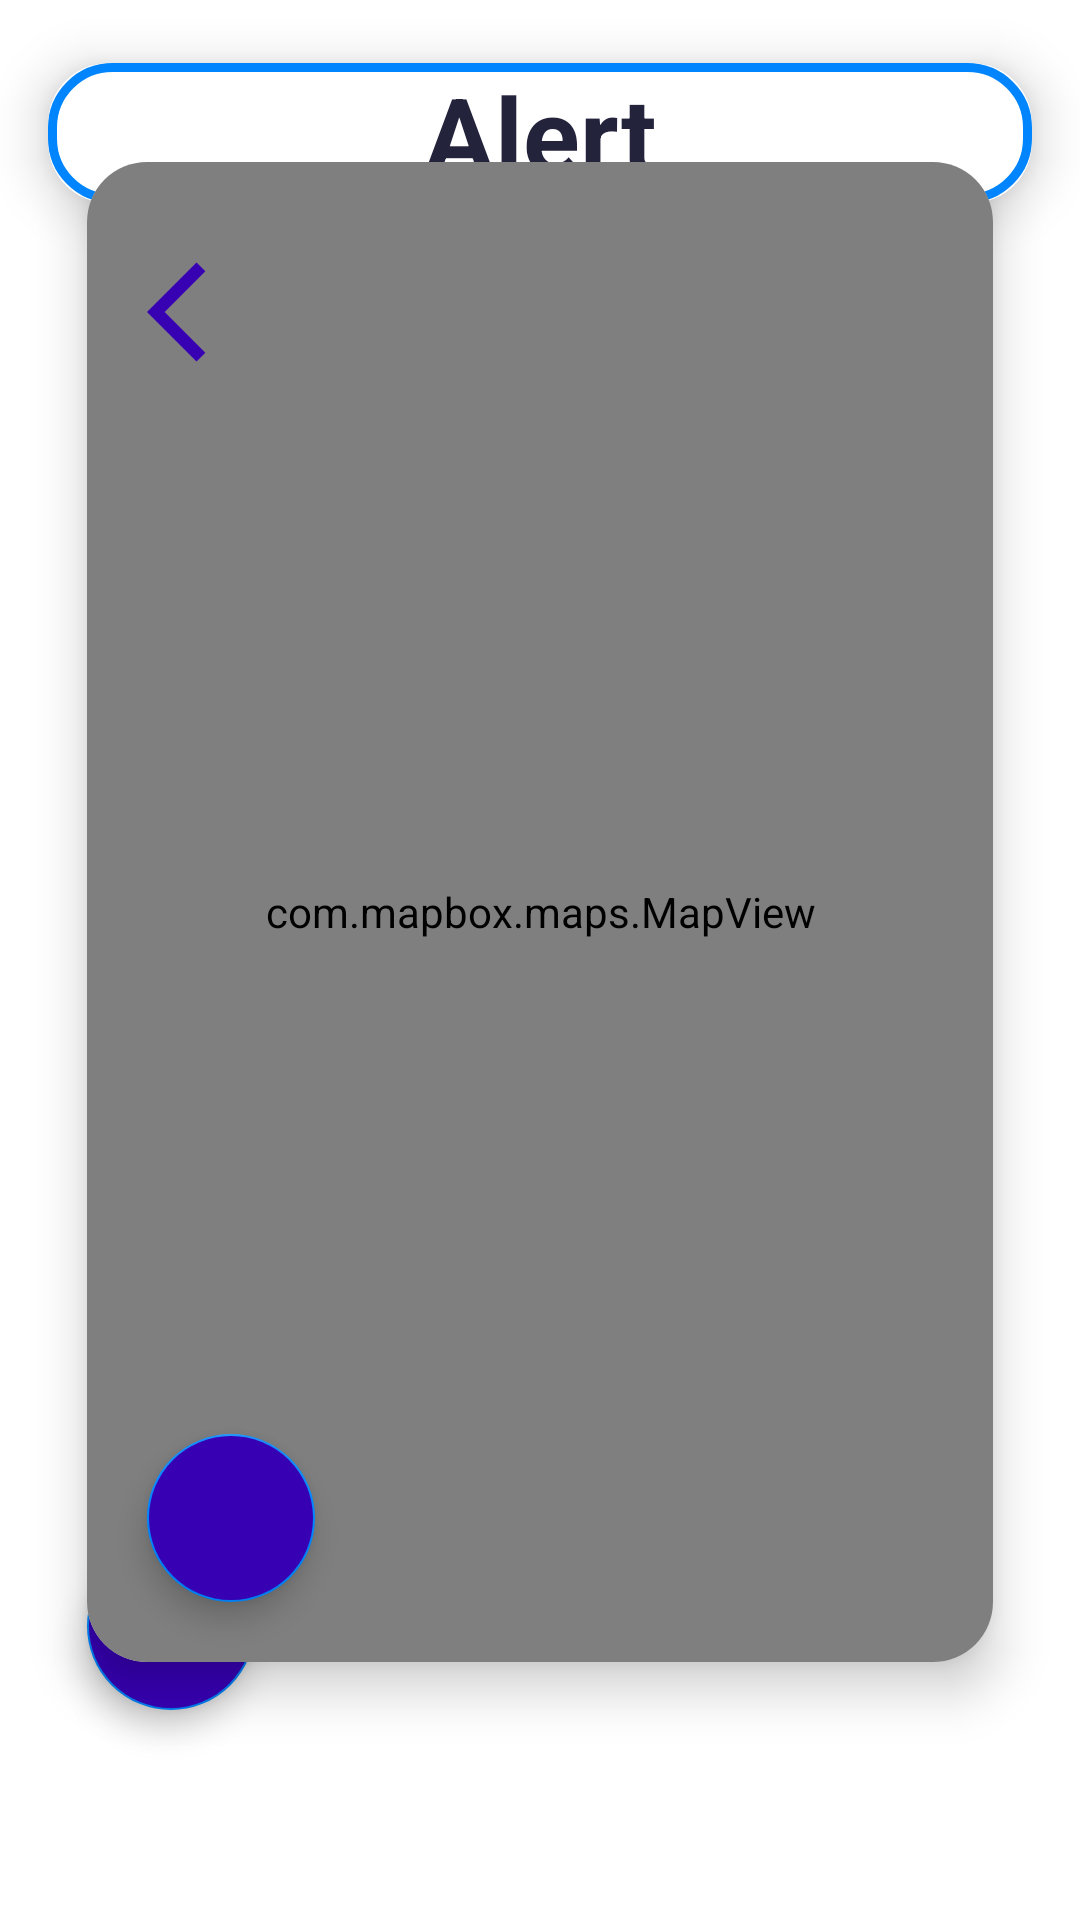

Screen size 1080*1920. Icon name, then its center in pixels as [x,y]:
arrow back: [176,312]
